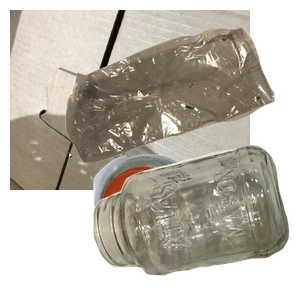cardboard: (10, 10, 250, 190)
glass: (91, 143, 300, 300)
plastic: (91, 152, 281, 300)
trash: (63, 24, 300, 179)
